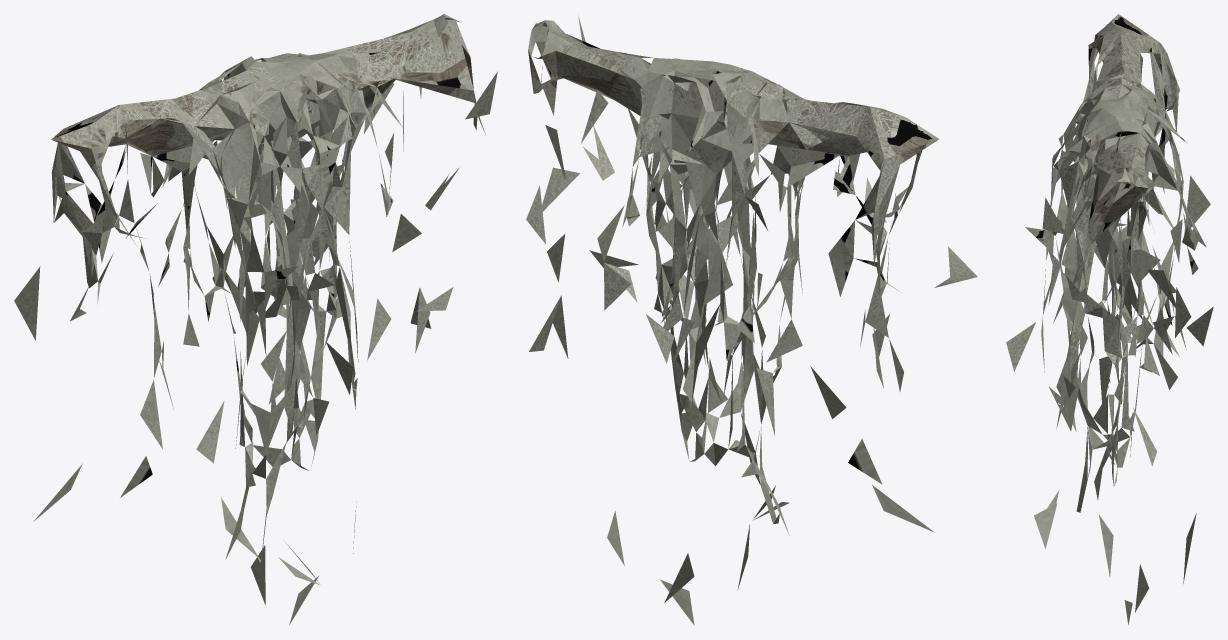
File: sp_m_mossclump.glb
3 views of the same model, side by side, from view 1: azimuth 30°, elevation 25°; view 2: azimuth 150°, elevation 25°; view 3: azimuth 270°, elevation 25° (orthographic). The views are drawn at different scales.
Parts seen in each view (by area): view 1: output_unwrapped; view 2: output_unwrapped; view 3: output_unwrapped.
Boxes of the visible parts, box(x1,y1,x2,y2) form: output_unwrapped: box(14, 14, 497, 624); output_unwrapped: box(526, 16, 977, 625); output_unwrapped: box(1006, 14, 1213, 624).
Bounding box in the file's own units: 0.9308 × 1.21 × 0.431.
1 material, 1 textured.
